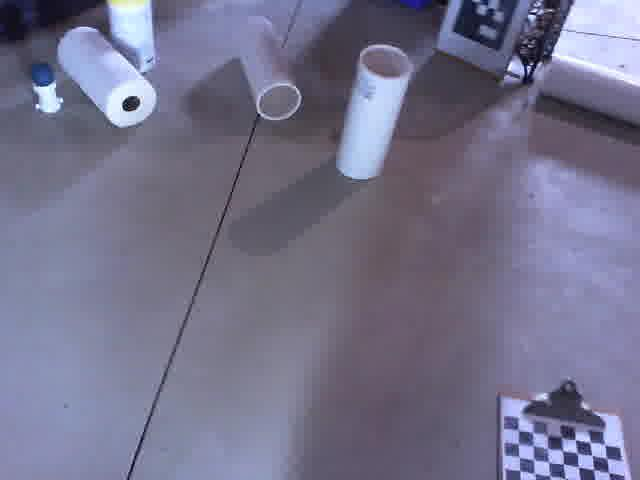coral: (327, 38, 419, 182), (220, 5, 311, 127), (536, 50, 640, 130)
